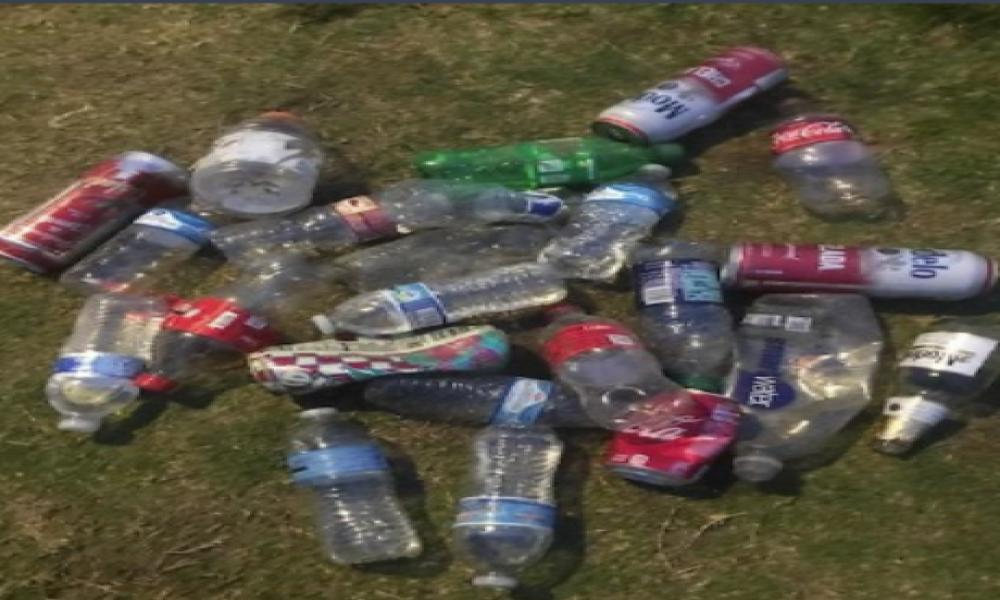can: (0, 128, 183, 271), (586, 44, 789, 158), (717, 234, 998, 303), (610, 401, 770, 486)
plastic bottle: (721, 288, 881, 492), (283, 401, 427, 572), (245, 303, 518, 392), (610, 245, 764, 402), (435, 422, 577, 586), (308, 252, 562, 341), (191, 96, 361, 222), (854, 314, 998, 458), (542, 159, 704, 286), (39, 292, 169, 449), (171, 272, 346, 376), (46, 200, 218, 304), (392, 140, 743, 189), (226, 188, 436, 266), (339, 352, 582, 418), (772, 97, 899, 220), (455, 177, 590, 242)
